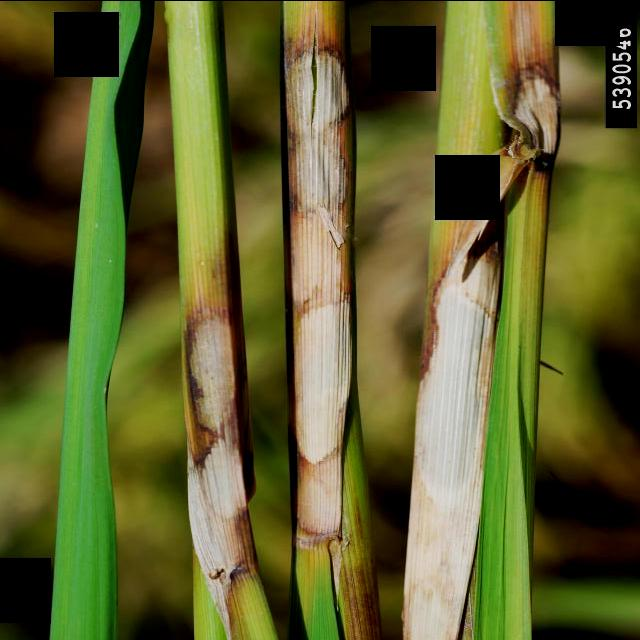Bacterial_Leaf_Blight: (402, 192, 507, 640), (278, 9, 352, 539), (186, 302, 256, 580), (507, 1, 563, 170)
